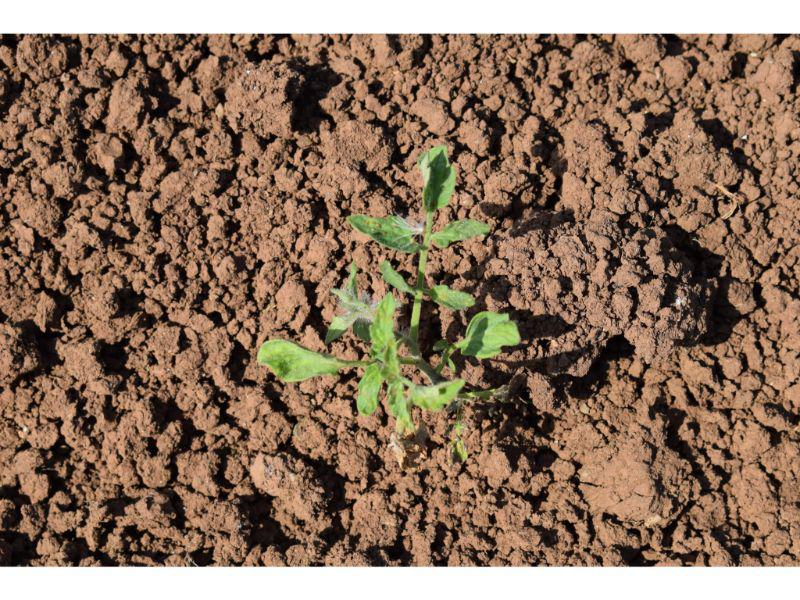tomato: (257, 147, 521, 437)
